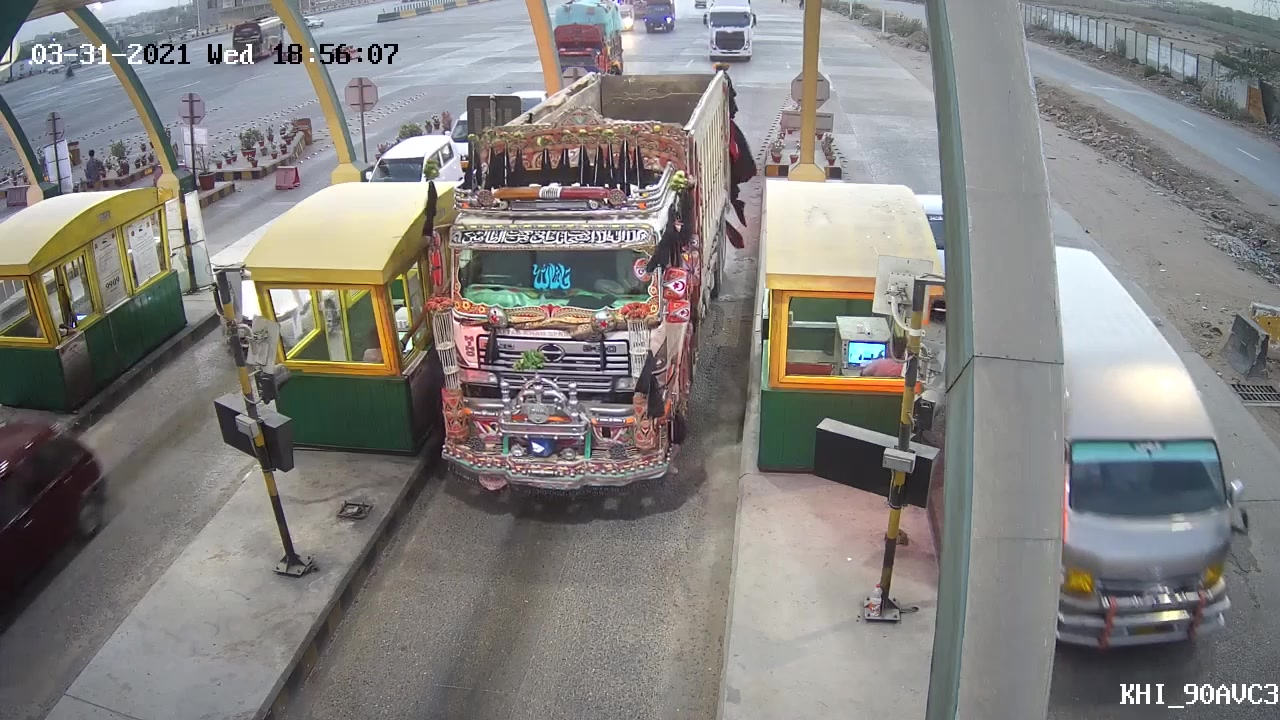F5: (415, 62, 732, 502)
